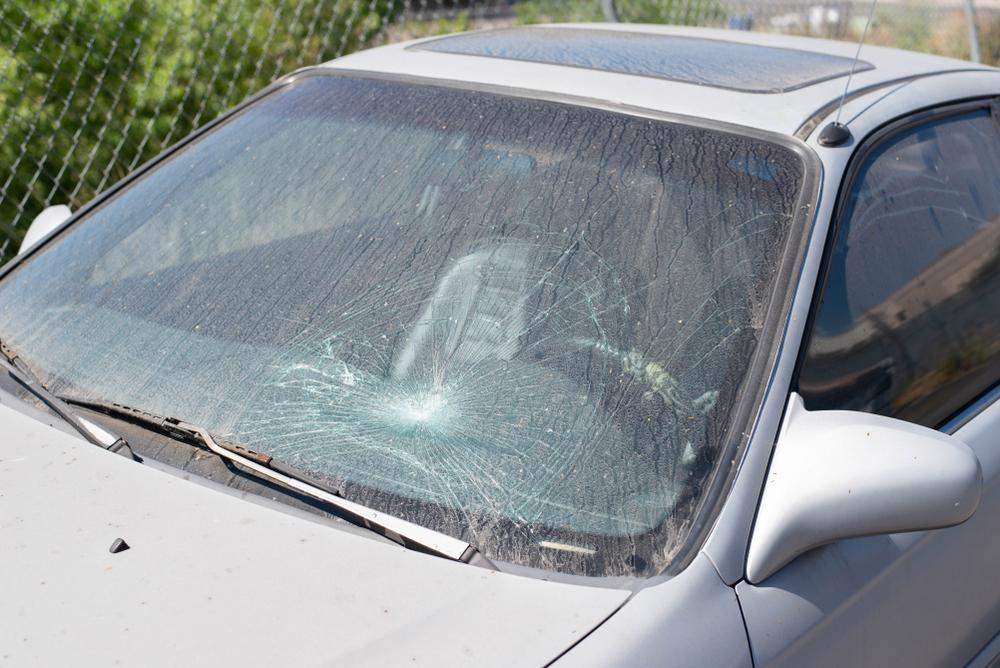glass shatter: (0, 73, 805, 575)
